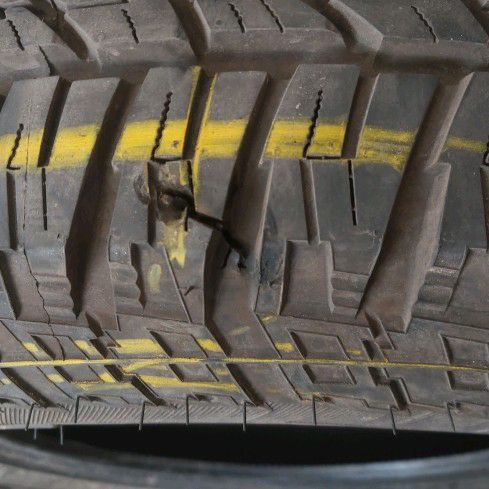tr: (144, 160, 253, 273)
